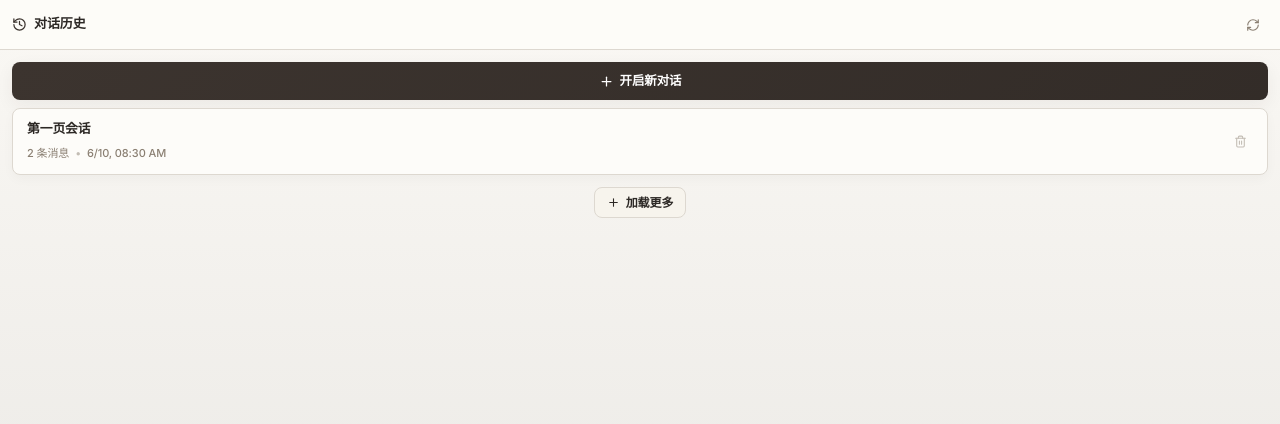
Scenario: HistoryView › appends additional session pages without replacing the existing list
Expected: the heading "第一页会话" is shown, left=27, top=122, right=90, bottom=137
Click the button "加载更多" at (640, 203), box left=594, top=187, right=686, bottom=218
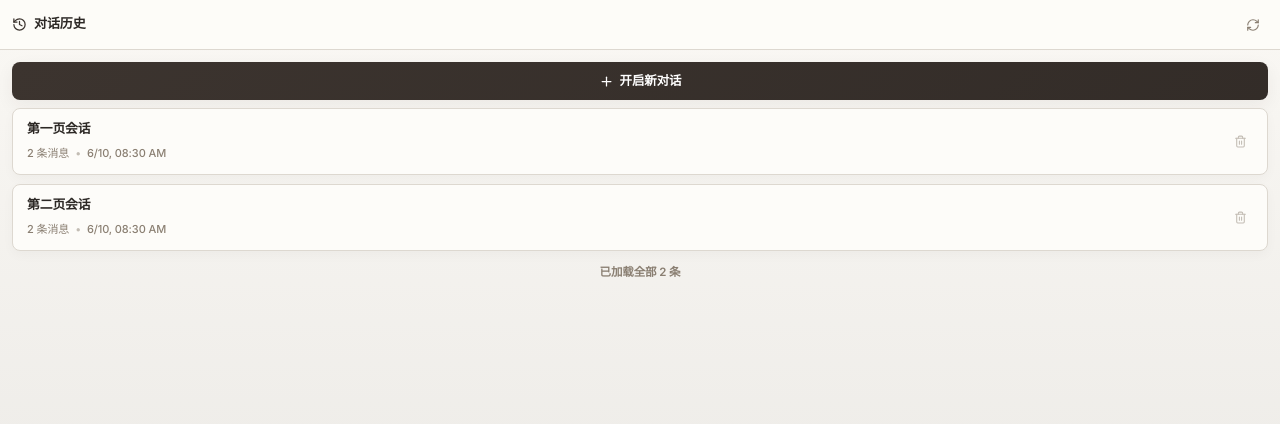
Expected: the heading "第一页会话" is shown, left=27, top=122, right=90, bottom=137
Result: the heading "第二页会话" is shown at left=27, top=198, right=90, bottom=213
Result: the text "已加载全部 2 条" is shown at left=600, top=263, right=680, bottom=282
